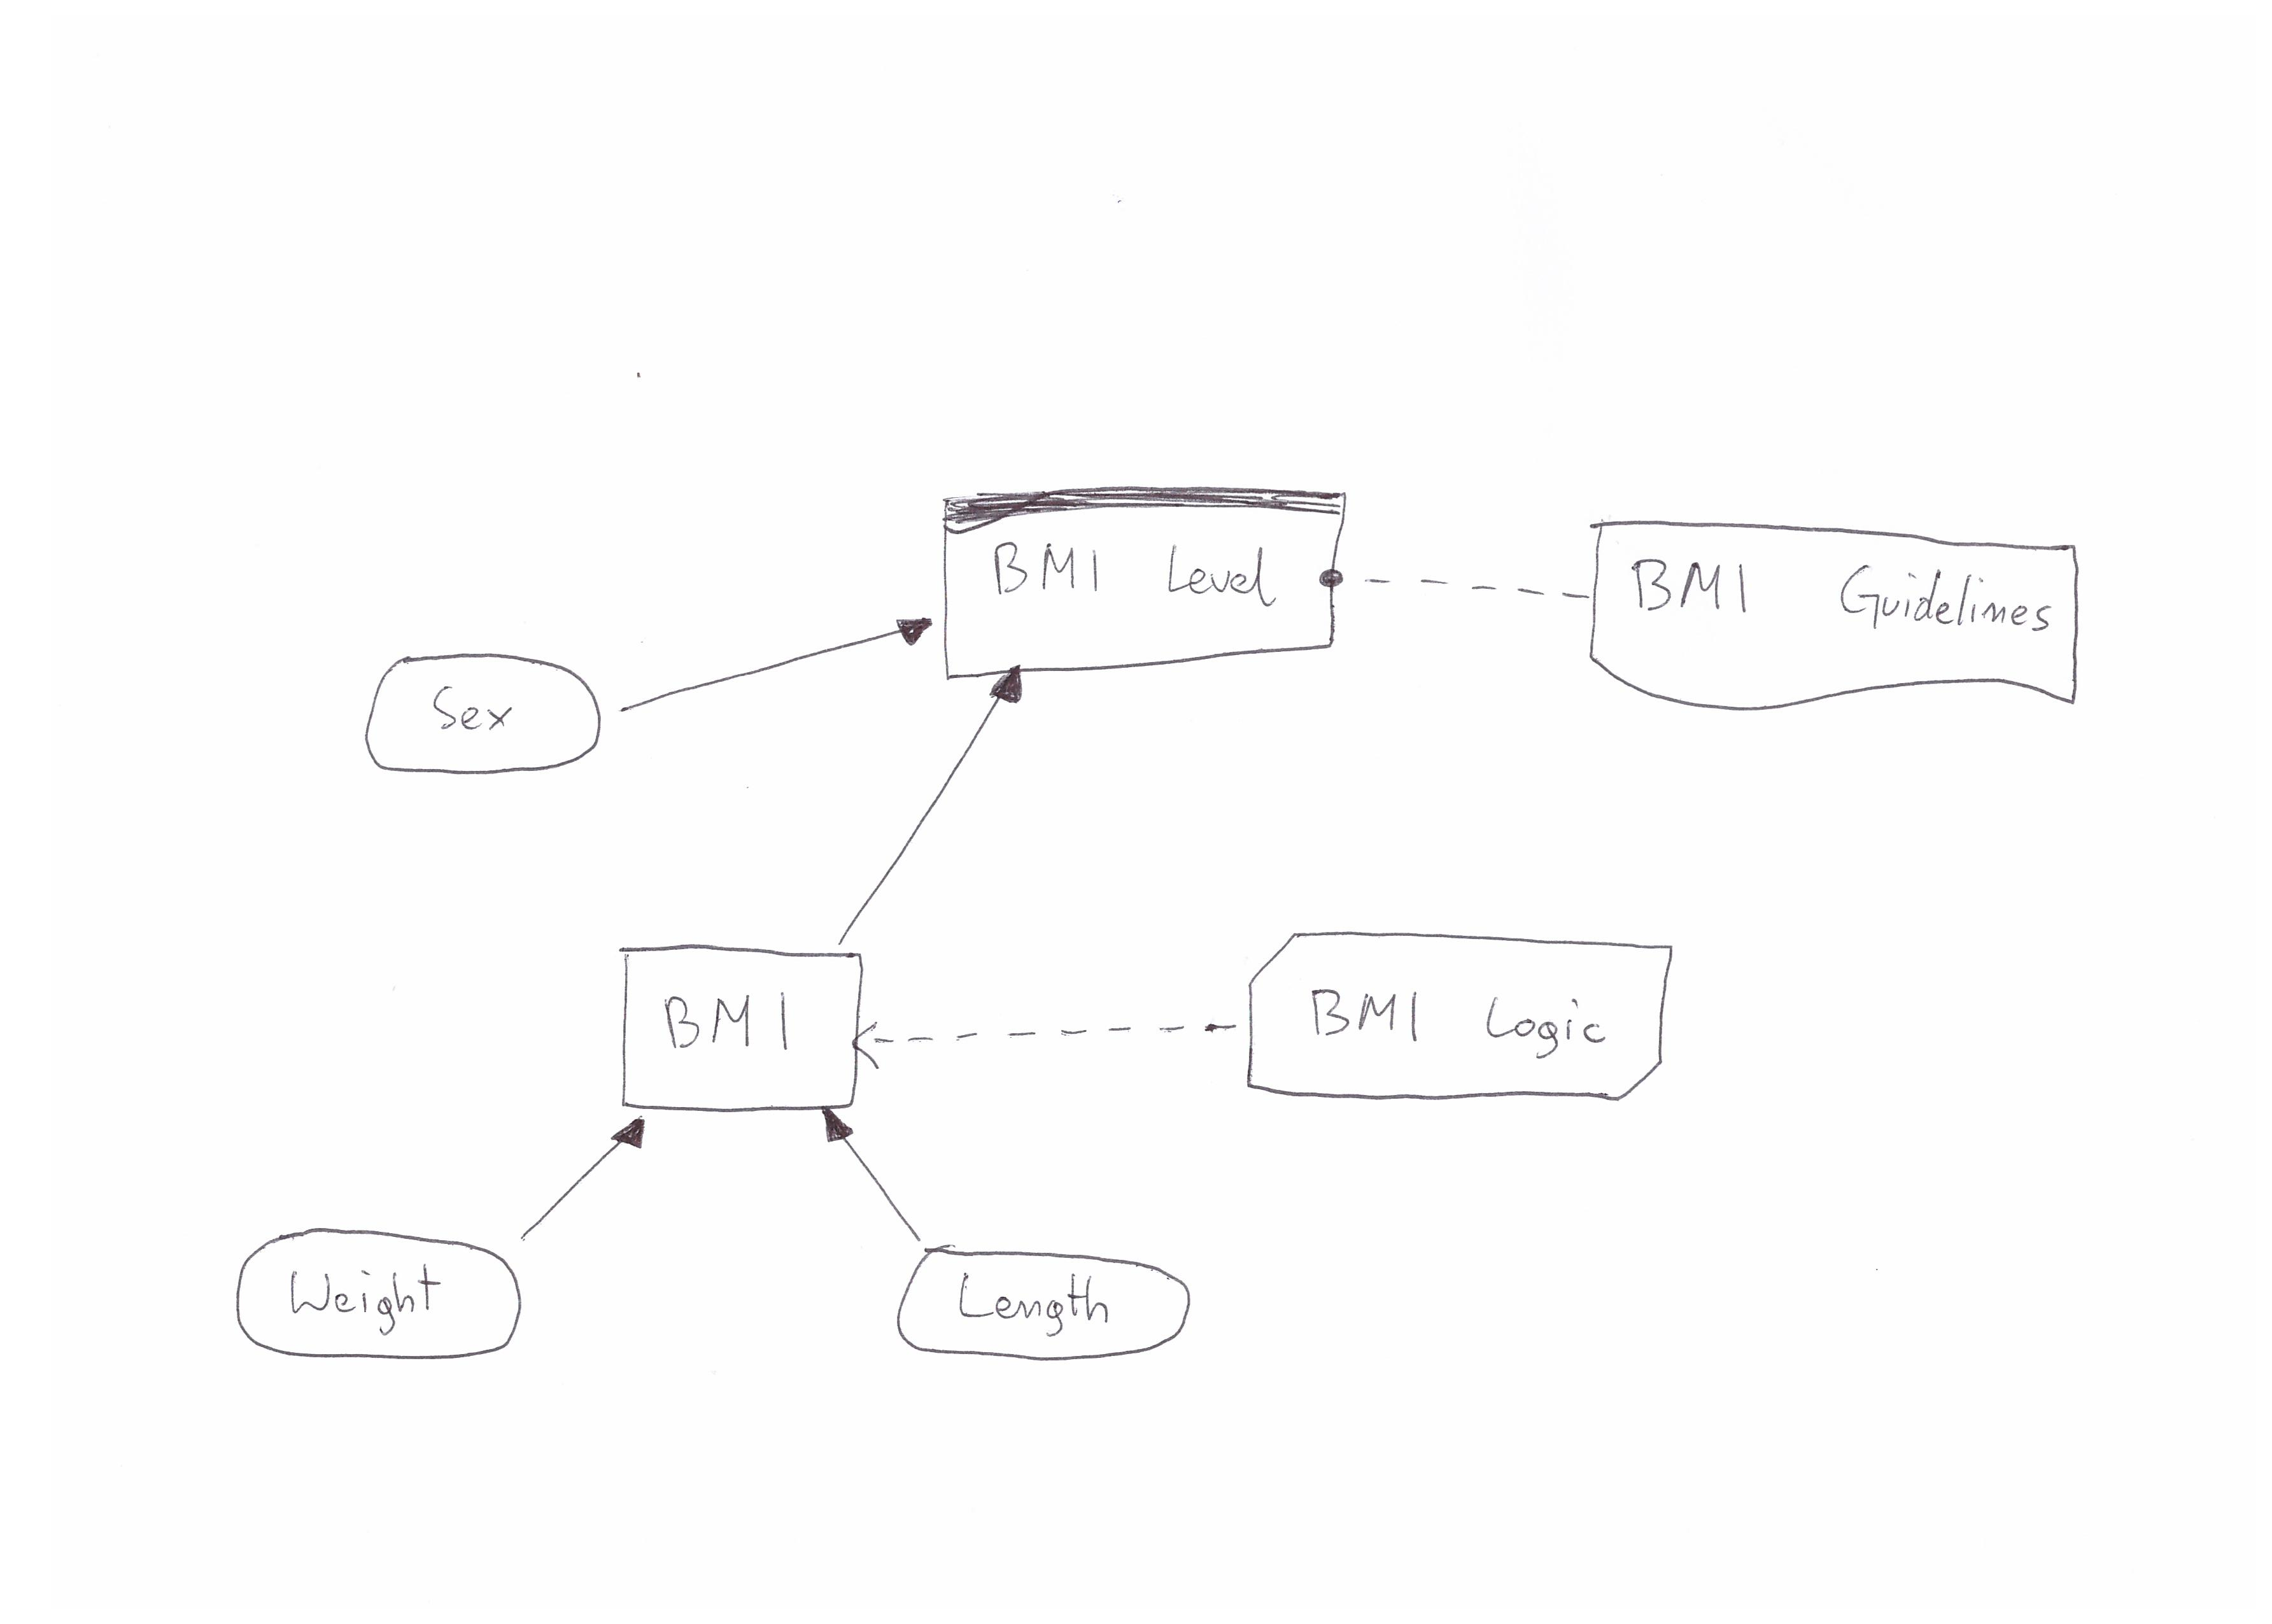arrow_authority_requirement: (1318, 554, 1595, 624)
arrow_information_requirement: (815, 661, 1046, 951), (613, 596, 937, 742), (497, 1111, 657, 1250)
arrow_knowledge_requirement: (838, 997, 1248, 1076)
node_decision: (930, 482, 1351, 678), (615, 937, 863, 1116)
node_input_data: (230, 1222, 532, 1387), (896, 1241, 1207, 1380), (358, 640, 610, 787)
node_knowledge_model: (1244, 919, 1687, 1125)
node_knowledge_source: (1585, 508, 2096, 742)
text: (1622, 548, 2070, 659), (1293, 975, 1624, 1079), (979, 531, 1302, 631), (278, 1250, 466, 1343), (652, 977, 810, 1081), (947, 1258, 1126, 1346), (418, 671, 529, 752)
